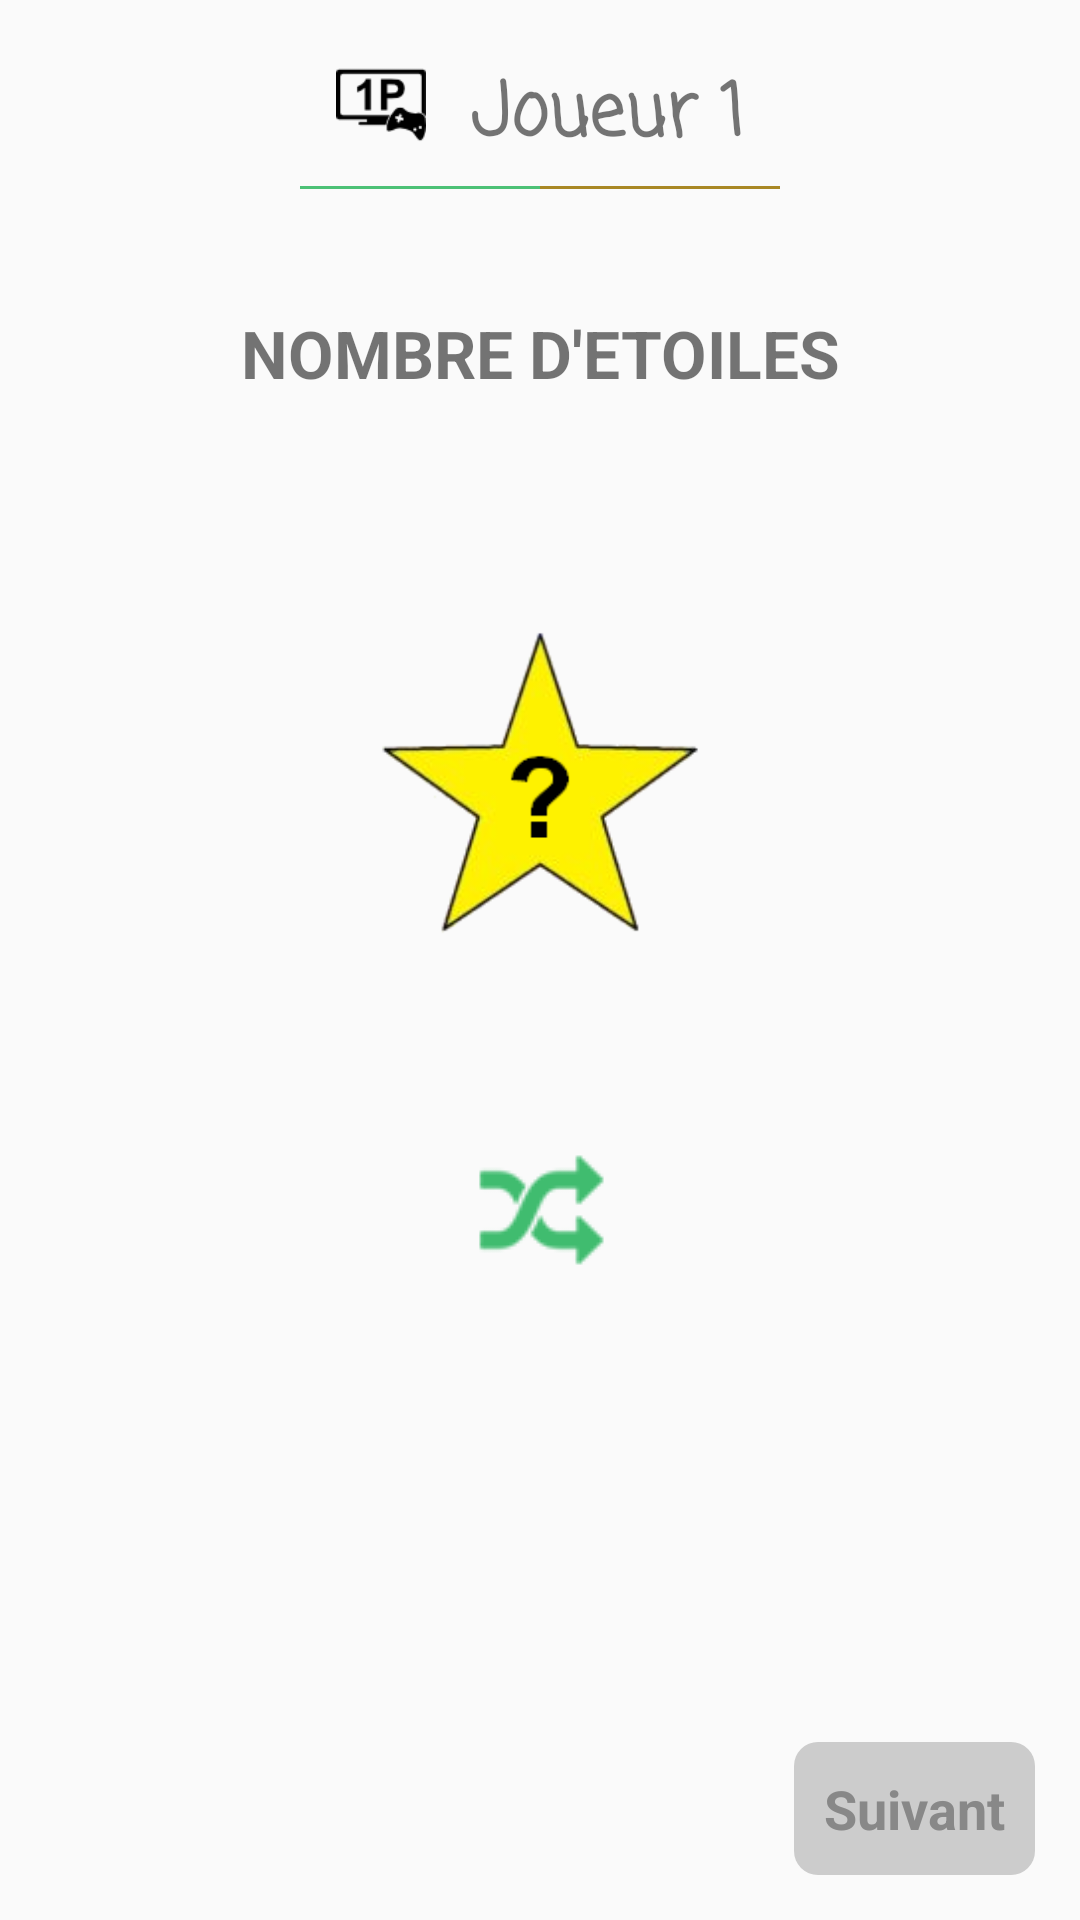

Where to tap for icons on this 1080*1920 app screen, as (x=x, y=y):
one player game: (x=381, y=104)
randomstars: (x=540, y=782)
roll: (x=541, y=1210)
